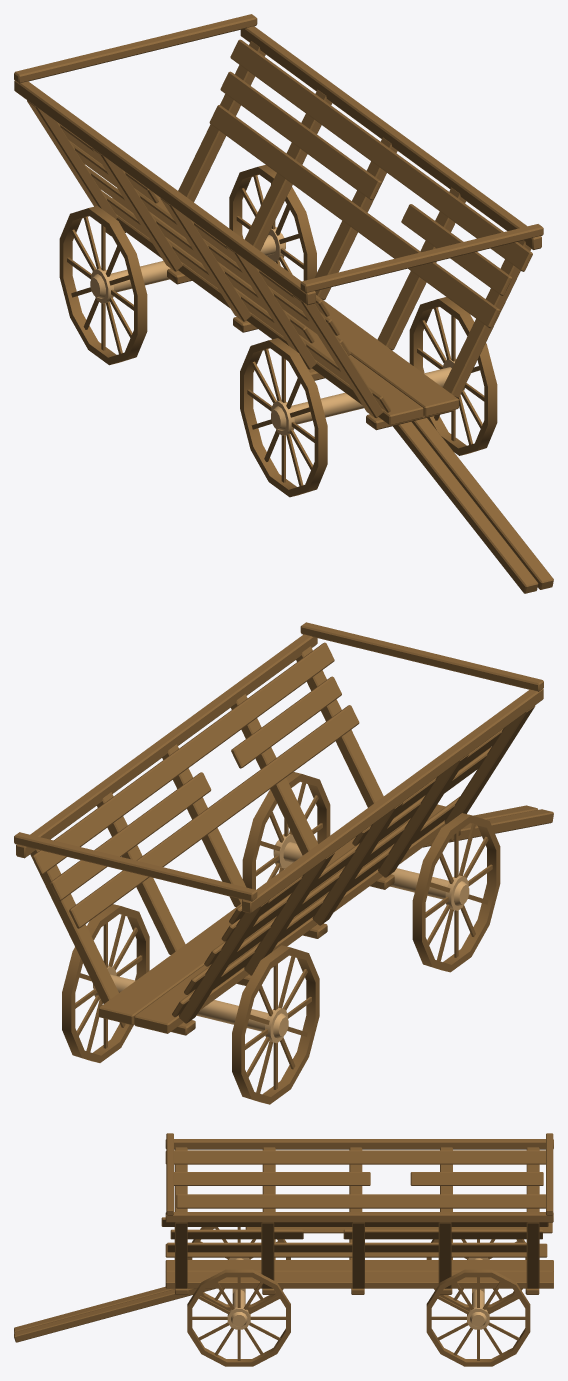
The model's file is car_07.gltf.
3 views of the same model, one above another, from view 1: azimuth 30°, elevation 25°; view 2: azimuth 150°, elevation 25°; view 3: azimuth 270°, elevation 25° (orthographic). The views are drawn at different scales.
Parts seen in each view (by area): view 1: body, wheel_14, wheel_6, wheel_15, wheel_7, wheel_9, wheel_11, wheel_12, wheel_4, wheel_3, wheel_1, wheel_8; view 2: body, wheel_14, wheel_6, wheel_7, wheel_15, wheel_1, wheel_3, wheel_4, wheel_12, wheel_11, wheel_9, wheel_0; view 3: body, wheel_2, wheel_10, wheel_3, wheel_11, wheel_8, wheel_0, wheel_5.
Part boxes in pixels (x1,y1,x2,y2): body: [14, 14, 553, 593]; wheel_14: [59, 208, 137, 365]; wheel_6: [240, 340, 318, 497]; wheel_15: [88, 206, 147, 364]; wheel_7: [269, 338, 327, 496]; wheel_9: [409, 299, 487, 455]; wheel_11: [439, 297, 497, 455]; wheel_12: [63, 216, 116, 357]; wheel_4: [244, 348, 296, 489]; wheel_3: [258, 165, 316, 279]; wheel_1: [229, 167, 307, 280]; wheel_8: [413, 306, 466, 448]; body: [14, 622, 553, 1093]; wheel_14: [241, 947, 319, 1104]; wheel_6: [422, 815, 500, 972]; wheel_7: [412, 813, 471, 971]; wheel_15: [232, 945, 290, 1103]; wheel_1: [71, 906, 149, 1062]; wheel_3: [62, 904, 120, 1062]; wheel_4: [443, 823, 496, 964]; wheel_12: [262, 955, 315, 1096]; wheel_11: [242, 772, 301, 888]; wheel_9: [252, 774, 330, 889]; wheel_0: [93, 913, 145, 1055]; body: [14, 1133, 553, 1360]; wheel_2: [426, 1272, 530, 1366]; wheel_10: [187, 1272, 290, 1366]; wheel_3: [426, 1269, 530, 1306]; wheel_11: [187, 1269, 290, 1306]; wheel_8: [192, 1328, 285, 1362]; wheel_0: [431, 1328, 525, 1362]; wheel_5: [187, 1227, 290, 1311].
Size of the model in its own units: 1.5 by 1.51 by 4.44.
Materials: 1 (1 with a texture image).
